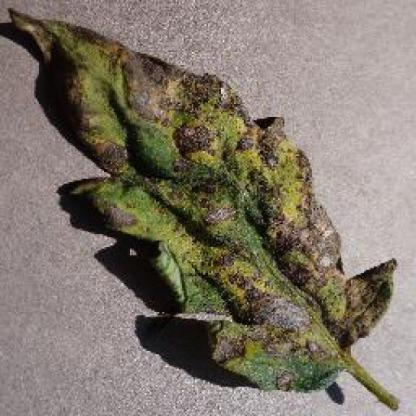Tomato_Blight: (11, 9, 398, 392)
